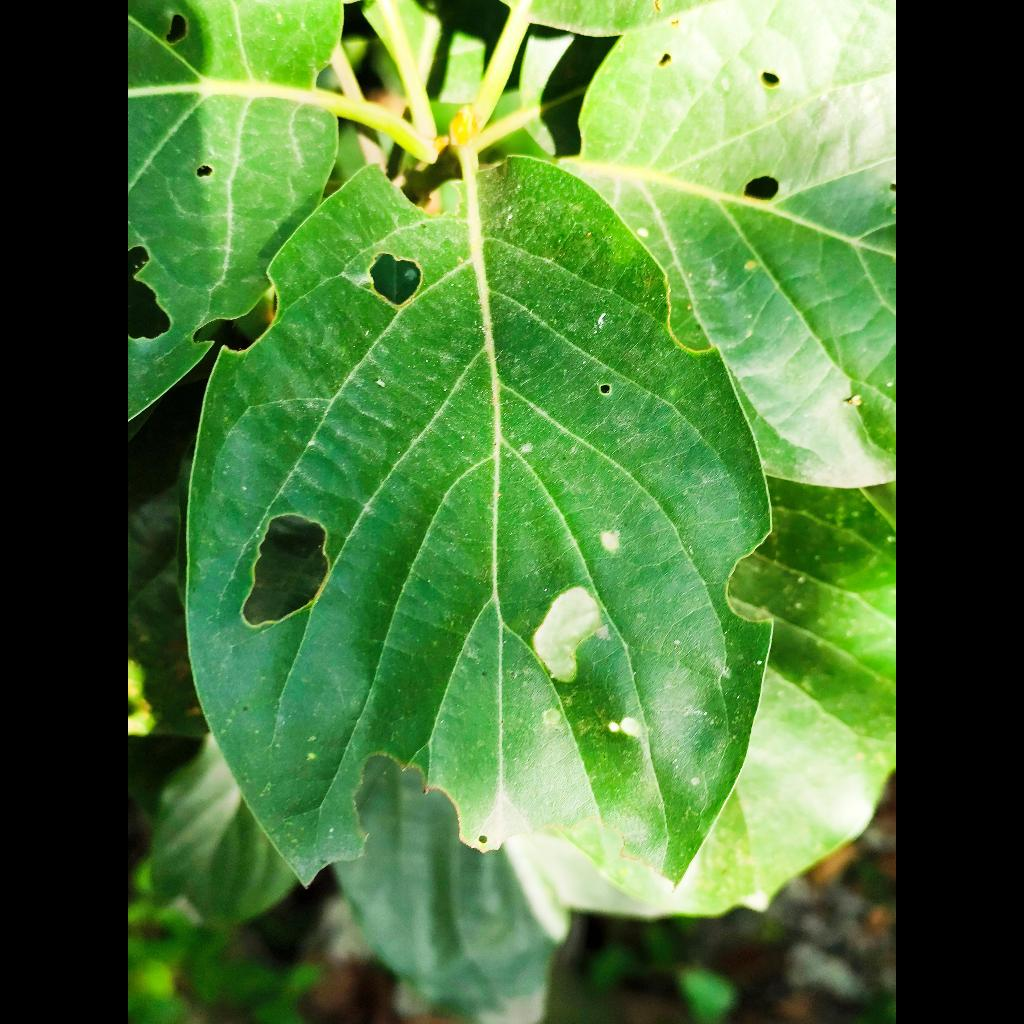plaga: (188, 151, 769, 882)
